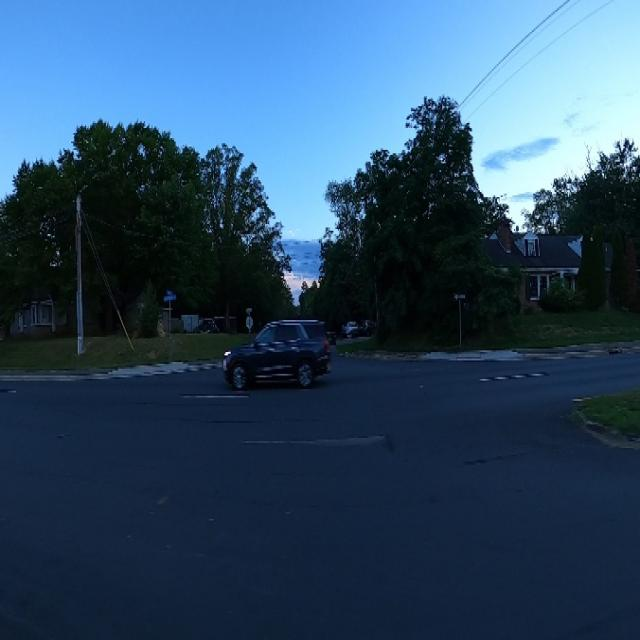car: (215, 314, 340, 398)
